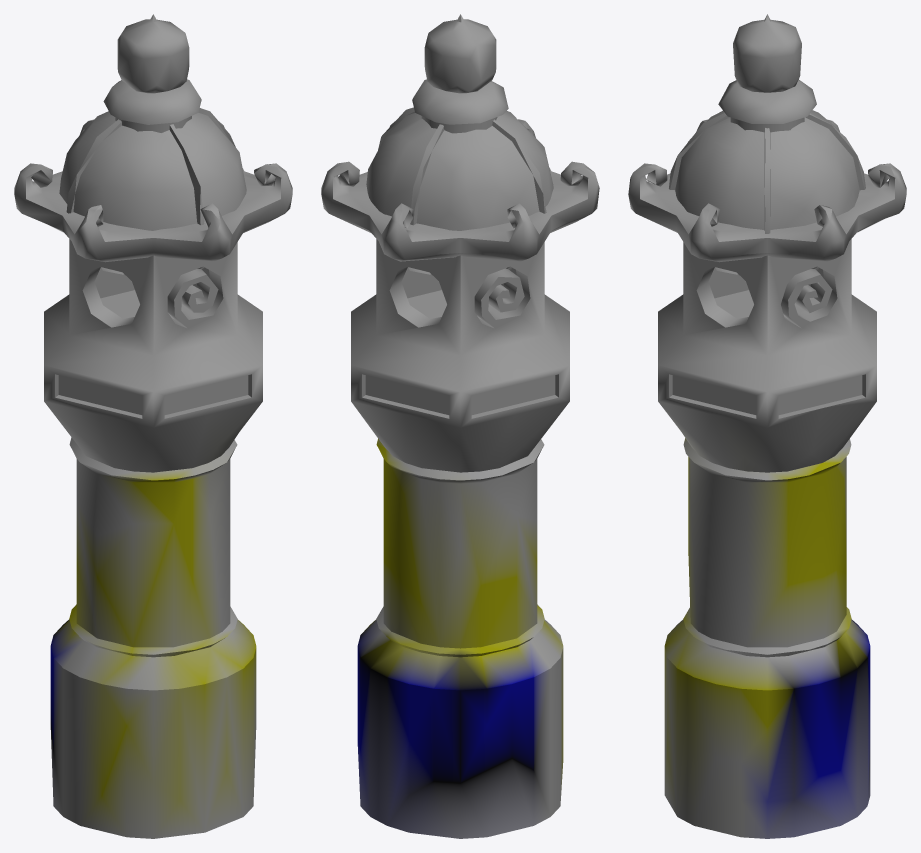
File: SM_ENV_LKNVLD_GardenLantern_A_Lod2.gltf
3 views of the same model, side by side, from view 1: azimuth 30°, elevation 25°; view 2: azimuth 150°, elevation 25°; view 3: azimuth 270°, elevation 25° (orthographic).
Visible parts, largest first — view 1: SM_ENV_LKNVLD_GardenLantern_A_Lod2; view 2: SM_ENV_LKNVLD_GardenLantern_A_Lod2; view 3: SM_ENV_LKNVLD_GardenLantern_A_Lod2.
Boxes of the visible parts, x1,y1,x2,y2 form: SM_ENV_LKNVLD_GardenLantern_A_Lod2: [14, 14, 292, 838]; SM_ENV_LKNVLD_GardenLantern_A_Lod2: [321, 14, 599, 838]; SM_ENV_LKNVLD_GardenLantern_A_Lod2: [628, 14, 906, 838].
Bounding box in the file's own units: 1.39 × 4.73 × 1.53.
